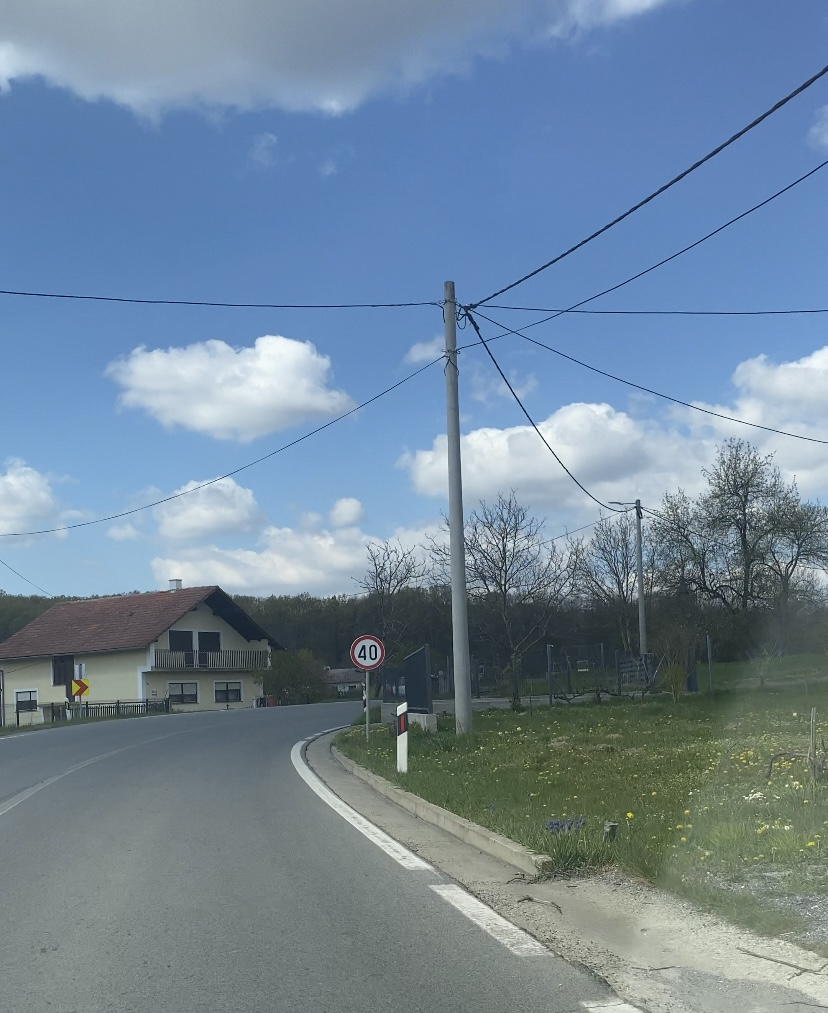Ograničenje brzine 40: (350, 635, 385, 670)
